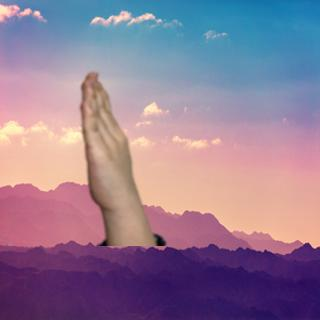RIGHT: (74, 68, 139, 210)
